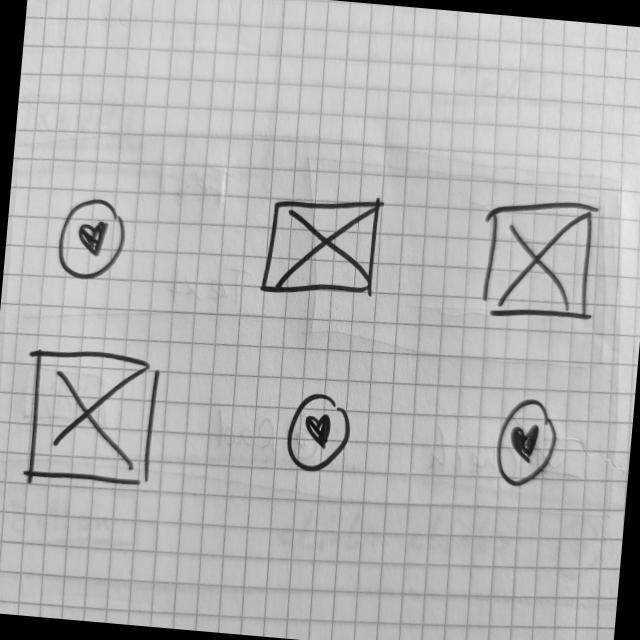icon-button: (55, 194, 133, 285), (493, 394, 561, 493), (285, 389, 355, 477)
image: (22, 345, 164, 491), (477, 191, 602, 331), (260, 186, 386, 305)
